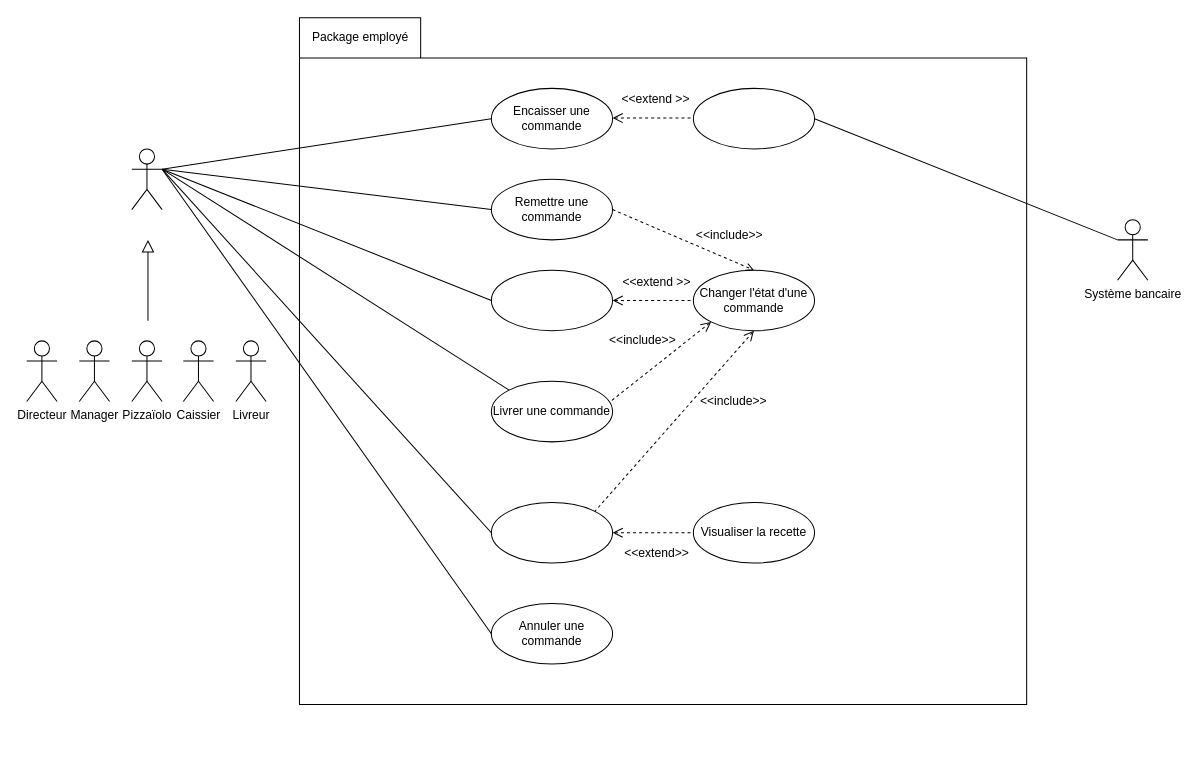
This 1199x773 diagram has some shape labels left out. Here are the shapes that lost their labels. From the top down, the centre of each, then its label:
At [753,118]: "Encaisser un paiement électronique".
At [146,179]: "Employé".
At [551,300]: "Consulter les commandes".
At [551,532]: "Préparer une commande".
